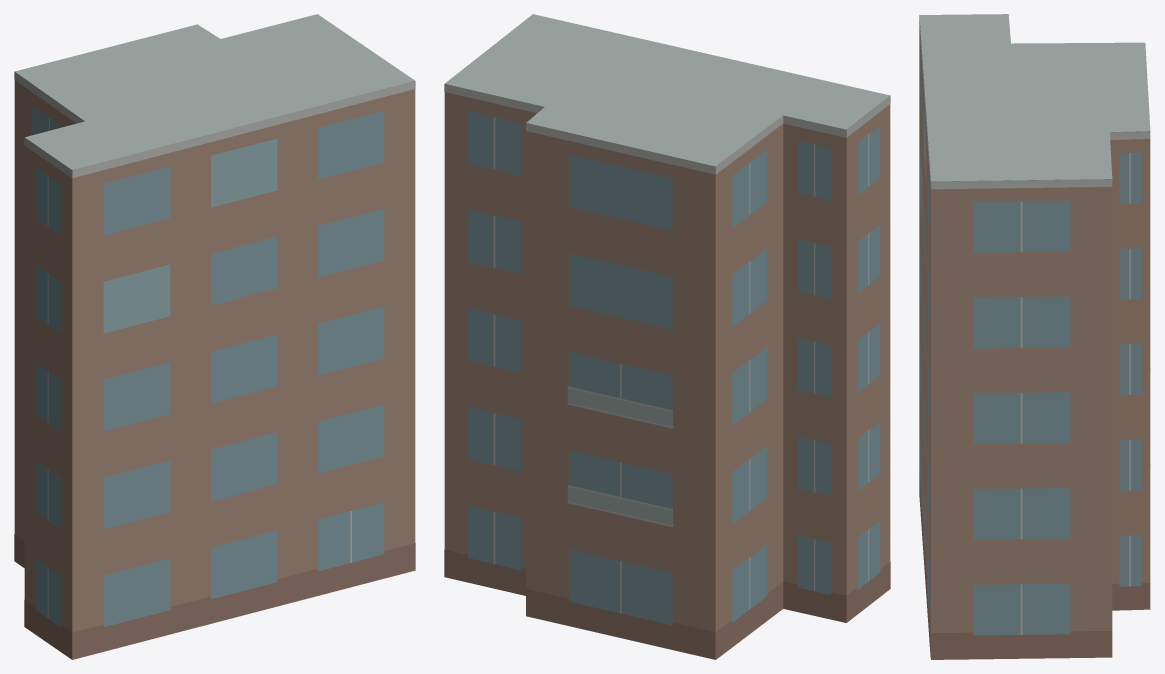
Rendered from survey-upis-32544044.glb.
3 renders of one model, left to right at view 1: azimuth 30°, elevation 25°; view 2: azimuth 150°, elevation 25°; view 3: azimuth 270°, elevation 25°, orthographic. The views are drawn at different scales.
Visible parts, largest first — view 1: survey-upis-32544044.tmp; view 2: survey-upis-32544044.tmp; view 3: survey-upis-32544044.tmp.
Part boxes in pixels (left/top/right/bottom): survey-upis-32544044.tmp: left=14, top=14, right=415, bottom=659; survey-upis-32544044.tmp: left=444, top=14, right=890, bottom=659; survey-upis-32544044.tmp: left=919, top=14, right=1150, bottom=659.
Size of the model in its own units: 11.1 by 14.78 by 6.48.
